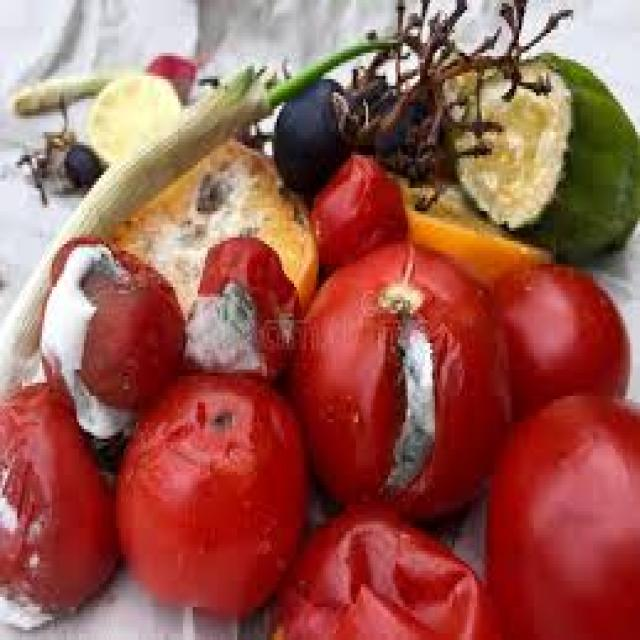food_waste: (0, 0, 638, 637)
